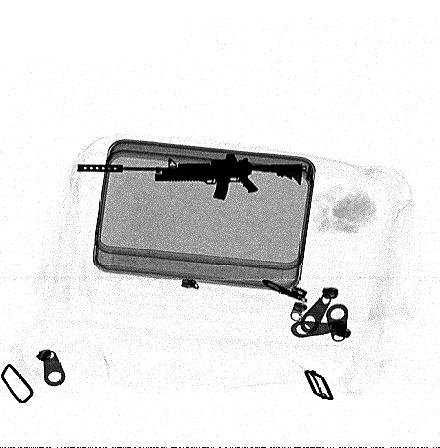Gun: (74, 150, 306, 200)
